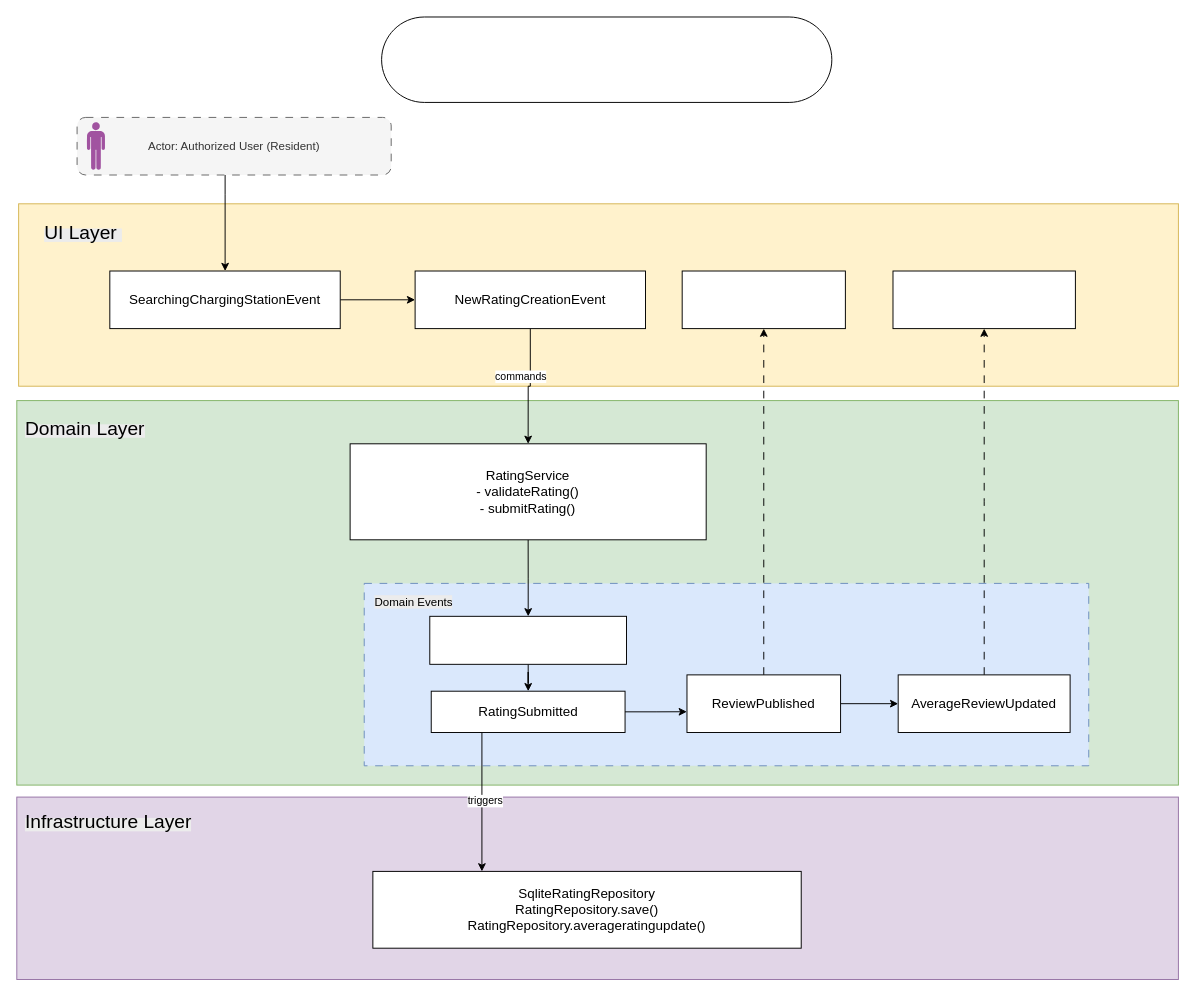
The diagram is 1195 pixels wide and 996 high, and some of its shapes have lost their labels. The shapes that lost their labels are listed below. From the top down, each one's centre as x and y in pixels, then its label:
(x=606, y=59): Rating Charging Station DDD Layered Diagram
(x=763, y=299): RatingVisiibleTousers
(x=983, y=299): AverageRatingVisibleToUsers
(x=527, y=639): RatingtValidated
